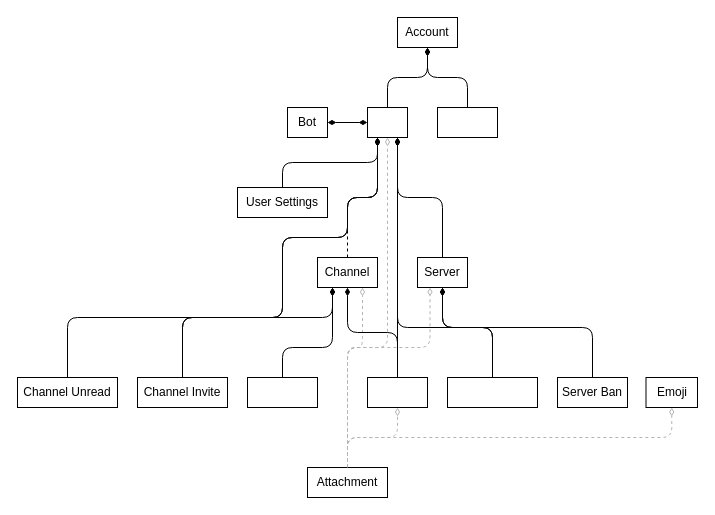
Image size: 715x515. Some labels were removed from this diagram. The shapes that lost their labels are listed below. From the top down, each one's centre as x and y in pixels, then its label:
(387,122): User
(467,122): Session
(282,392): Webhook
(397,392): Message
(492,392): Server Member
